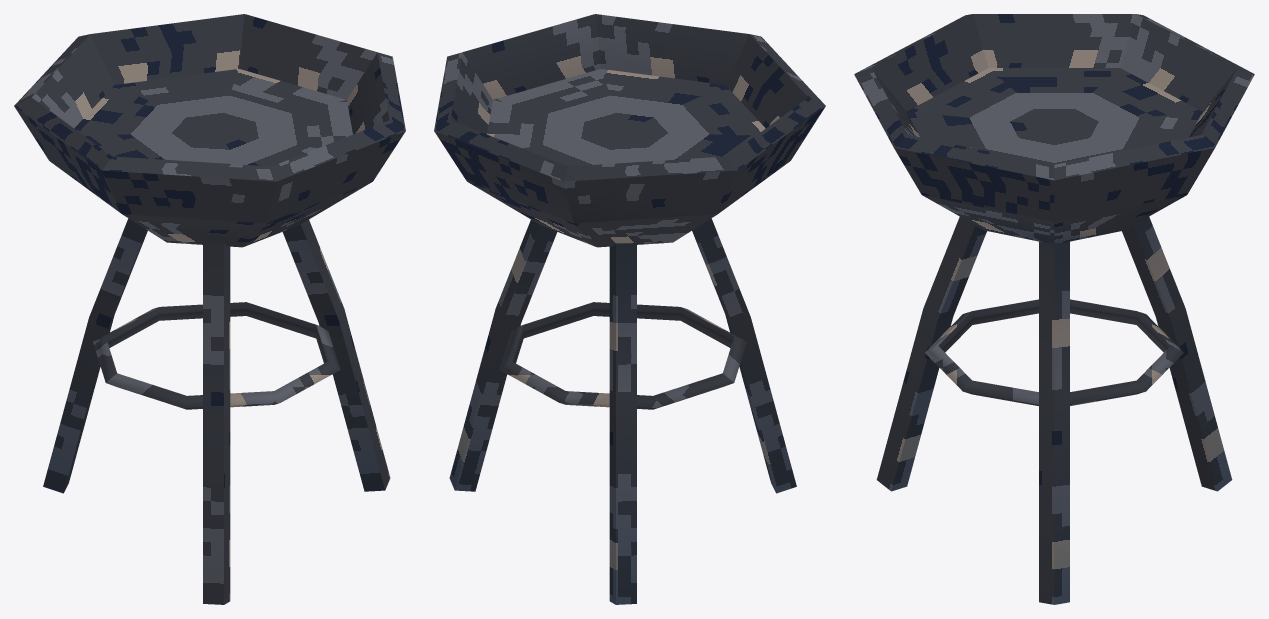
File: dprop.brazier__unlit.glb
3 renders of one model, left to right at view 1: azimuth 30°, elevation 25°; view 2: azimuth 150°, elevation 25°; view 3: azimuth 270°, elevation 25°, orthographic.
Visible parts, largest first — view 1: kit_bowl, kit_legs; view 2: kit_bowl, kit_legs; view 3: kit_bowl, kit_legs.
Boxes of the visible parts, bbox=[...] form: kit_bowl: bbox=[14, 14, 405, 247]; kit_legs: bbox=[43, 218, 390, 604]; kit_bowl: bbox=[434, 14, 825, 247]; kit_legs: bbox=[449, 218, 796, 604]; kit_bowl: bbox=[854, 14, 1254, 243]; kit_legs: bbox=[876, 217, 1232, 604].
Size of the model in its own units: 0.8744 by 1.09 by 0.8969.
1 material, 1 textured.
